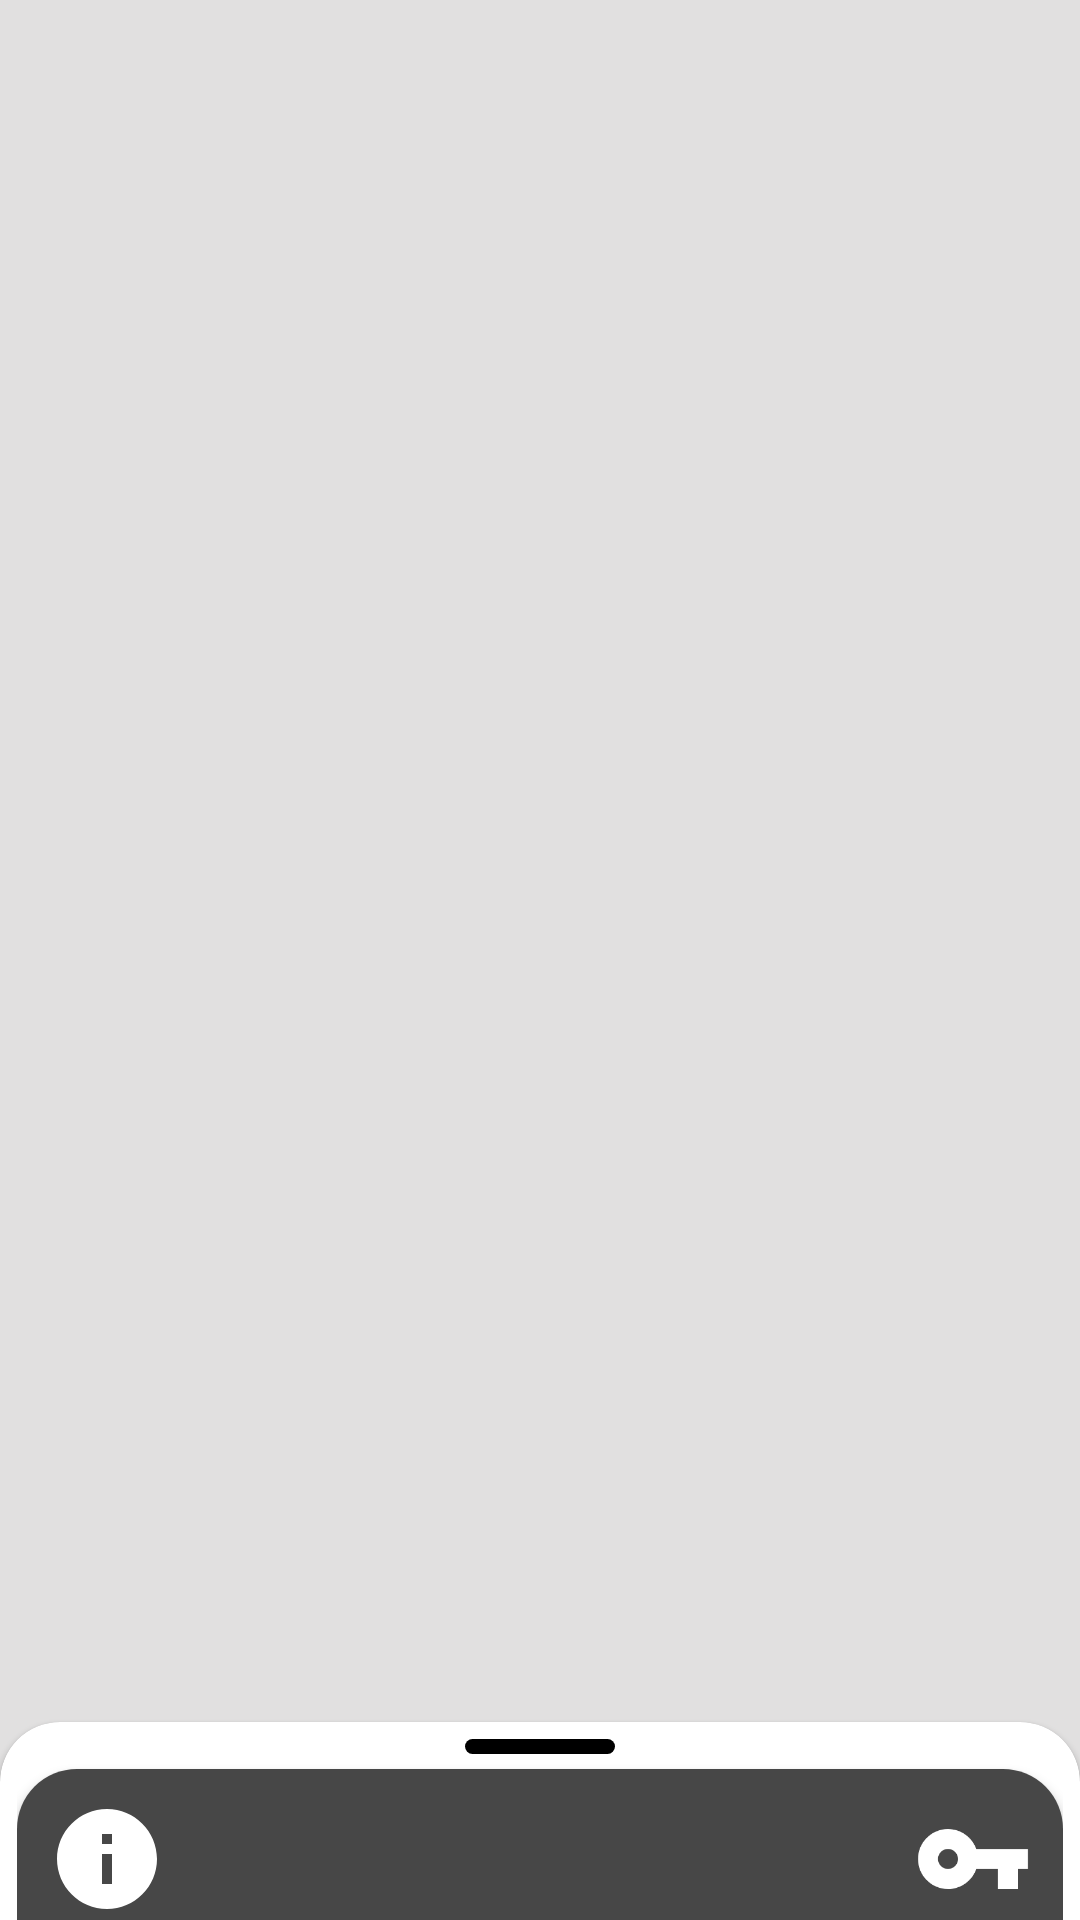

Screen size 1080*1920. Icon name, then its box in pixels as (x1, y1, x2, y2):
info: (57, 1809, 157, 1909)
security token: (918, 1829, 1028, 1889)
